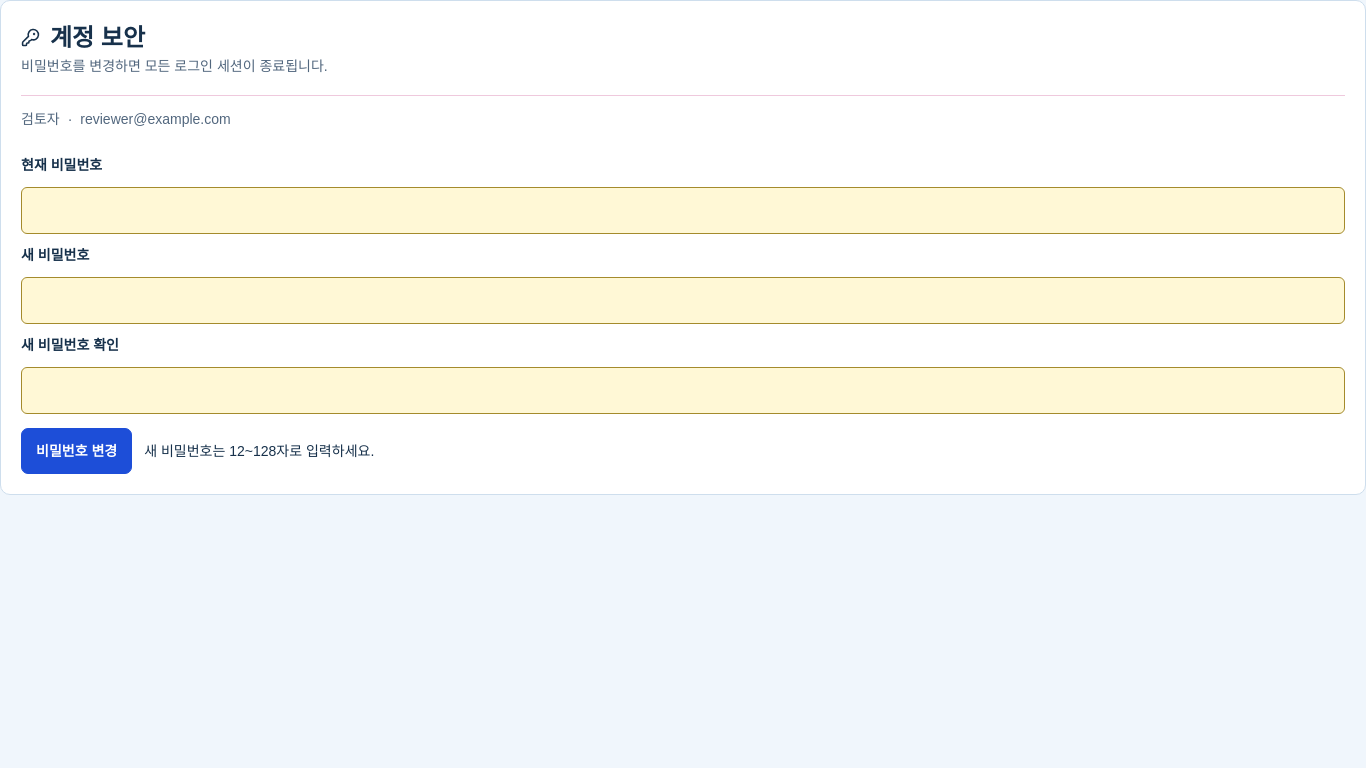
Test: keeps values and shows a safe error for a rejected current password
The width and height of the screenshot is (1366, 768).
Type "current-password" into the password field labelled "현재 비밀번호" at (683, 211), box x1=21 y1=187 x2=1345 y2=234
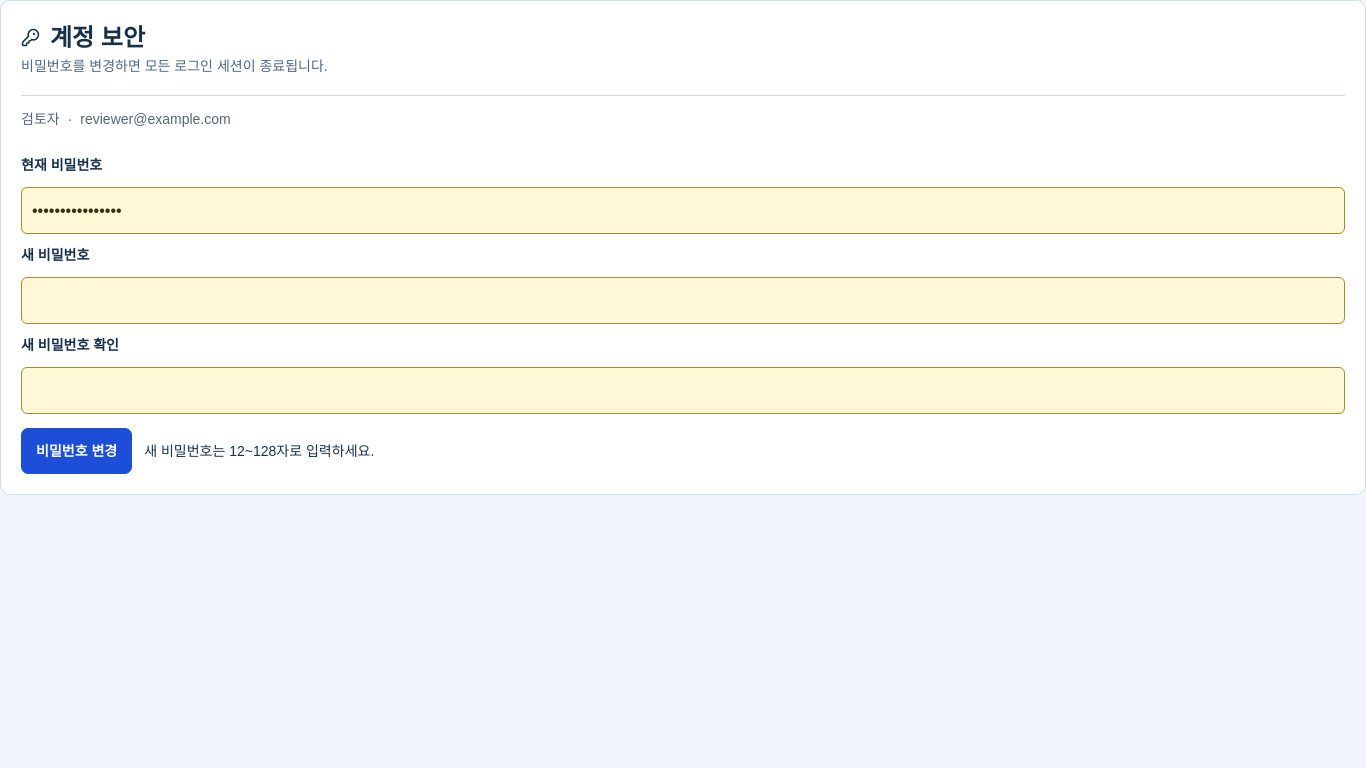
Type "new-password-123" into the password field labelled "새 비밀번호" at (683, 301), box x1=21 y1=277 x2=1345 y2=324
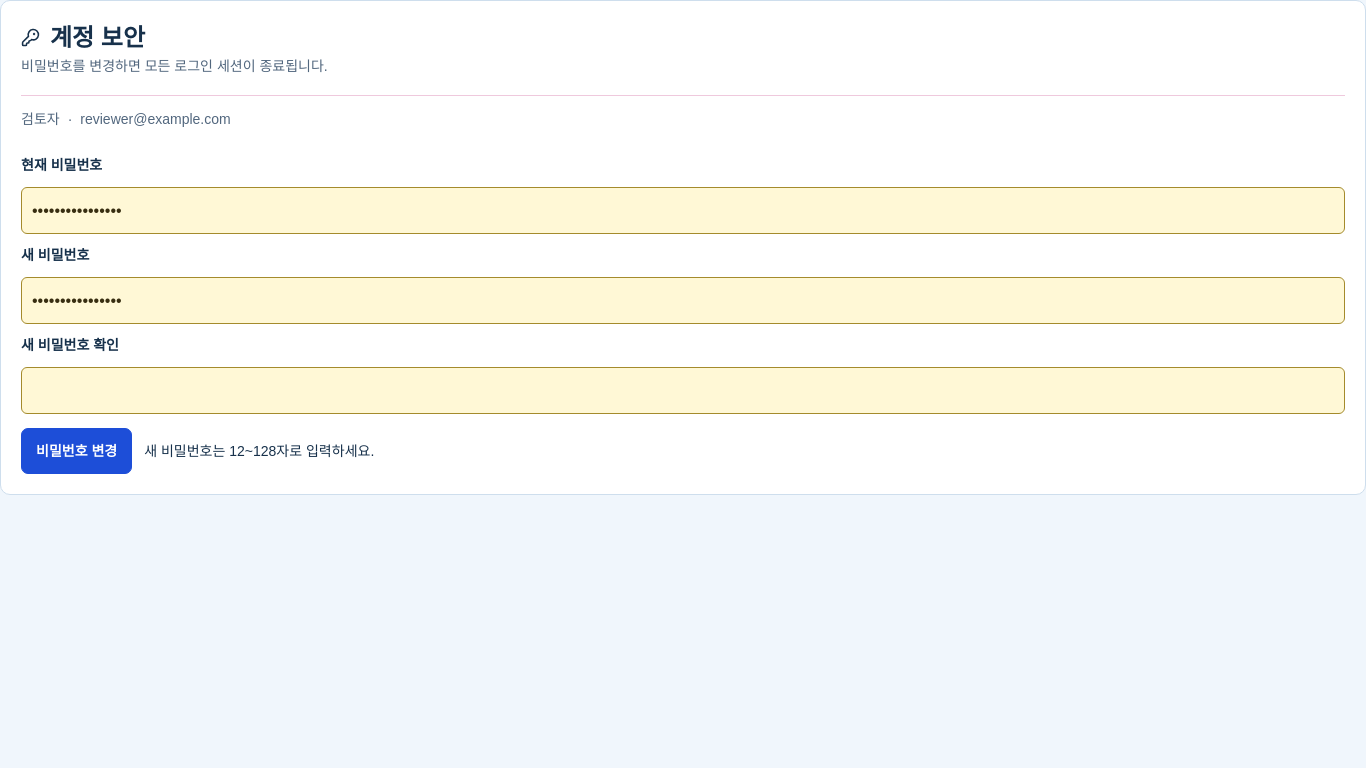
Type "new-password-123" into the password field labelled "새 비밀번호 확인" at (683, 390), box x1=21 y1=367 x2=1345 y2=414
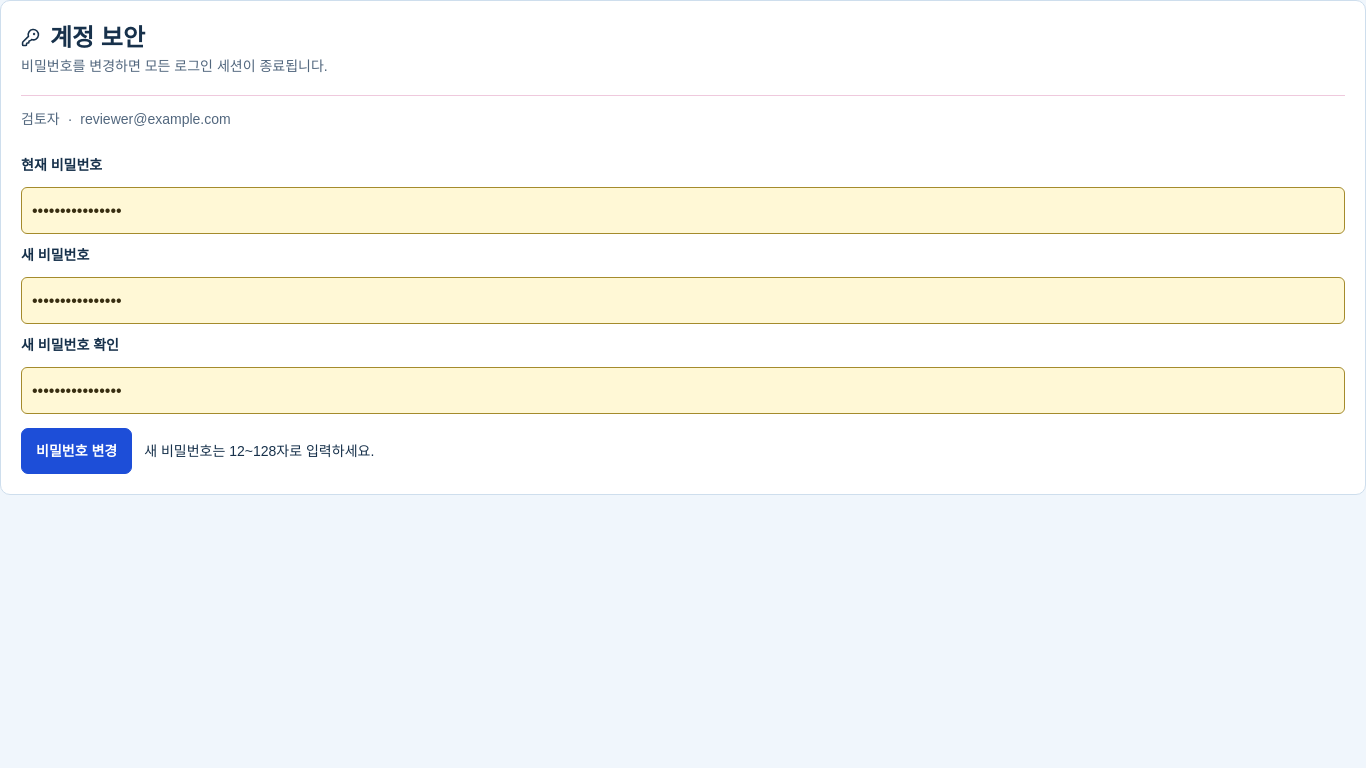
Submit the form "비밀번호 변경", box x1=21 y1=154 x2=1345 y2=474
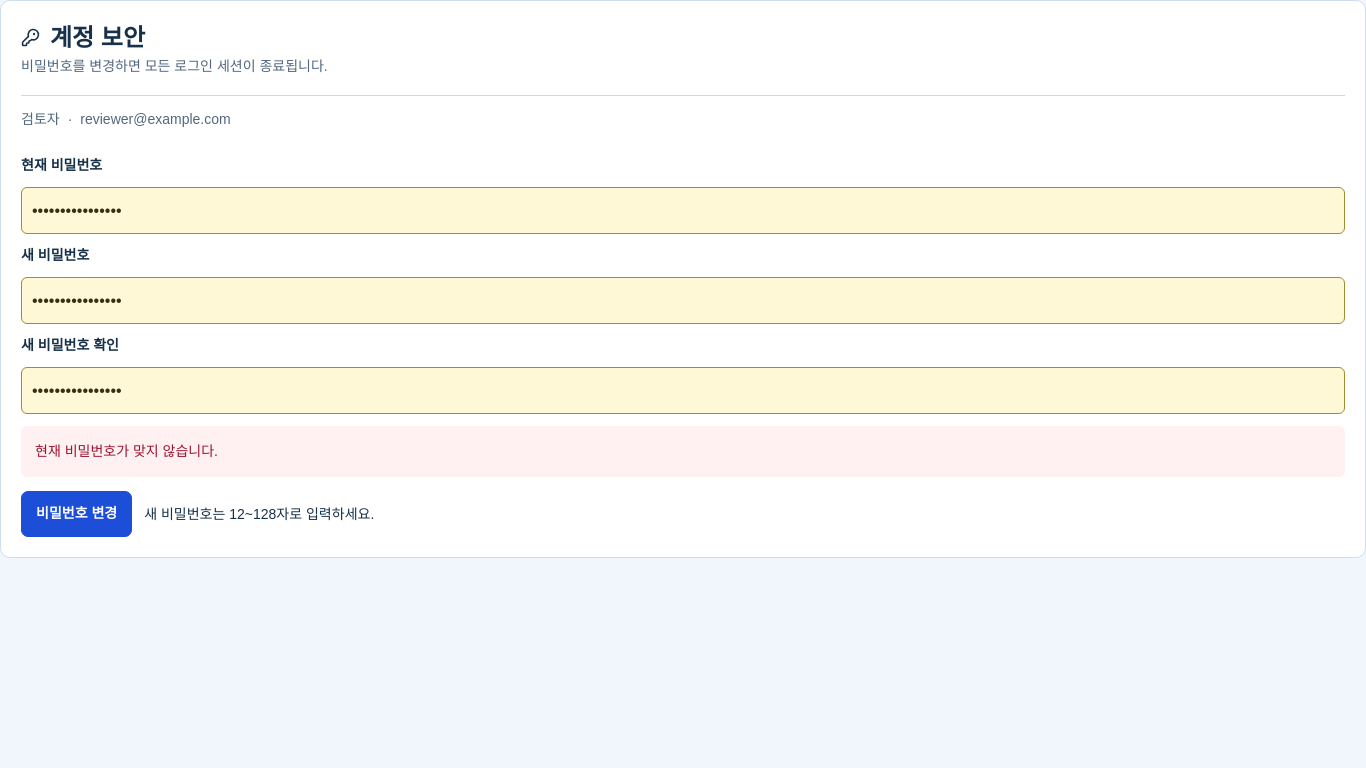
Check: the message reads "현재 비밀번호가 맞지 않습니다.", box x1=35 y1=443 x2=218 y2=459
